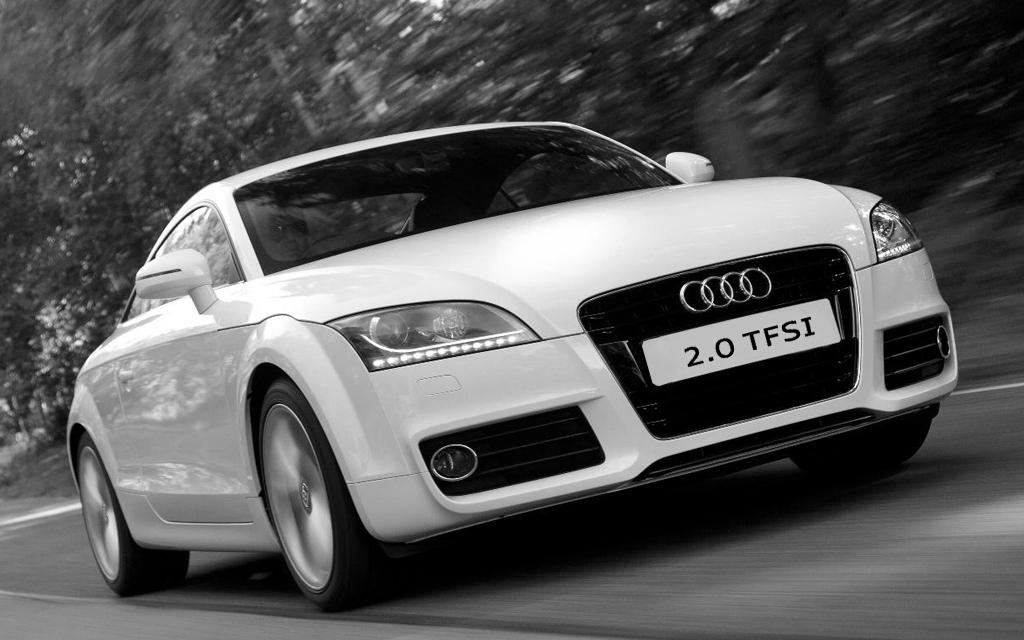car: (67, 118, 959, 617)
